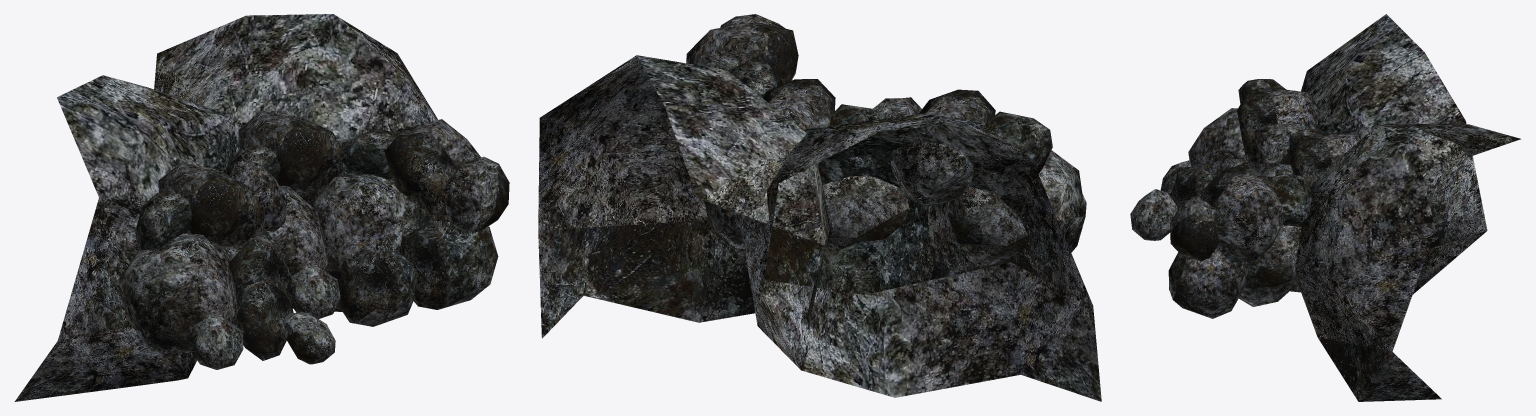
File: KM_VOB_ROCKS_02.glb
3 renders of one model, left to right at view 1: azimuth 30°, elevation 25°; view 2: azimuth 150°, elevation 25°; view 3: azimuth 270°, elevation 25°, orthographic. The views are drawn at different scales.
Visible parts, largest first — view 1: Mesh; view 2: Mesh; view 3: Mesh.
Part boxes in pixels (bbox=[...]): Mesh: bbox=[14, 14, 509, 401]; Mesh: bbox=[538, 14, 1101, 401]; Mesh: bbox=[1130, 14, 1520, 401].
Bounding box in the file's own units: 13.29 × 7.82 × 10.89.
1 material, 1 textured.
